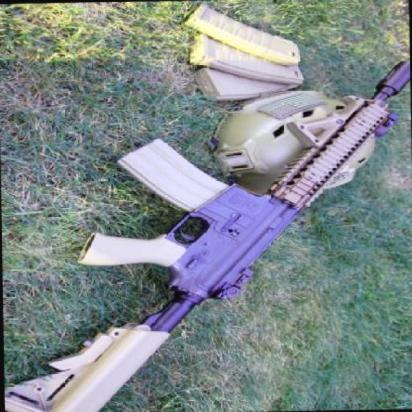Gun: (0, 48, 412, 411)
